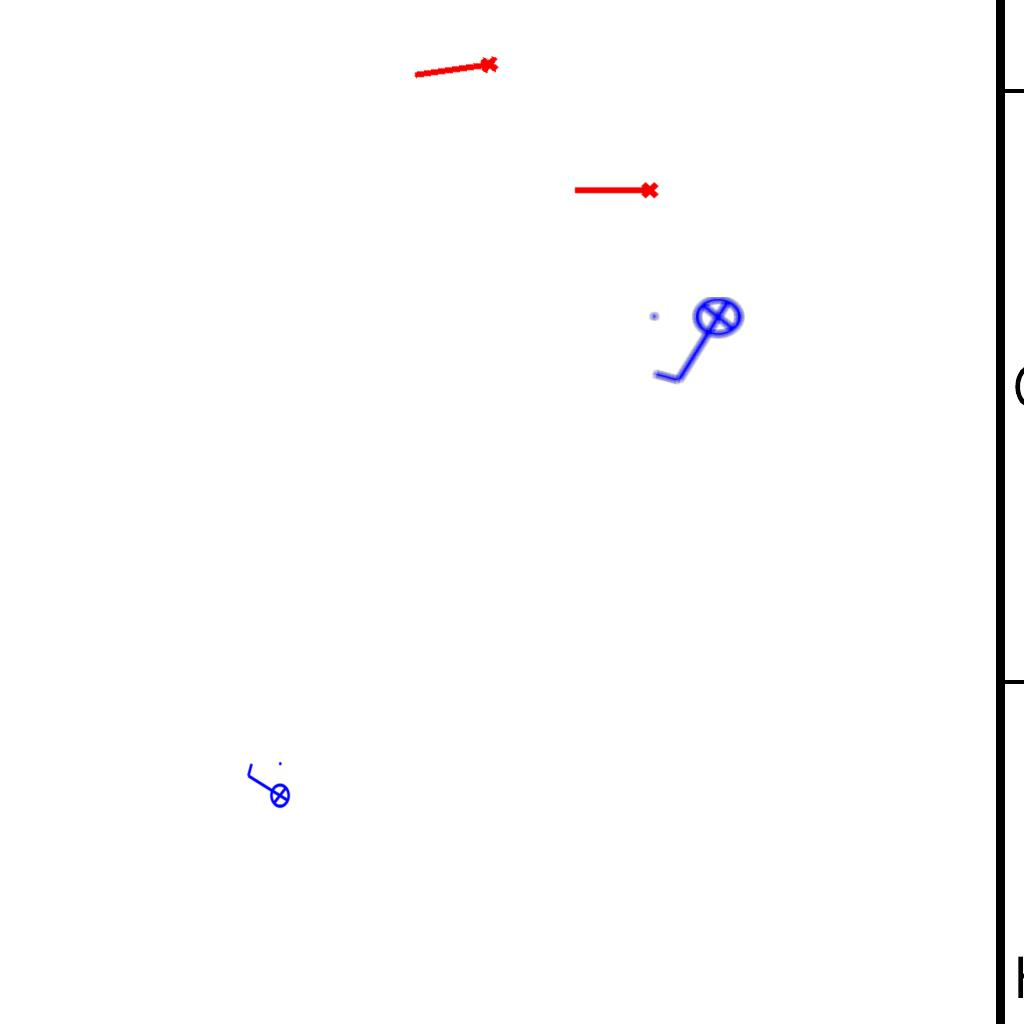ASR_Ansaugoeffnung: (410, 52, 502, 89), (572, 180, 660, 203)
Ausschalter_beleuchtet: (645, 295, 757, 391), (243, 759, 291, 815)
